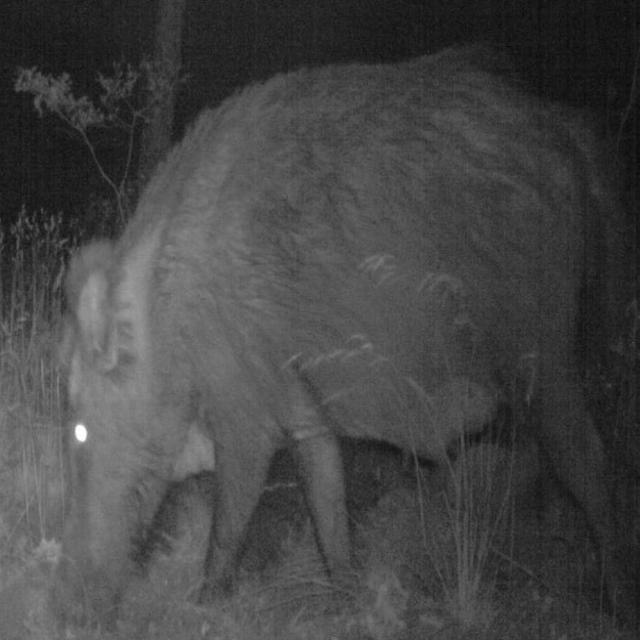pig: (42, 47, 616, 605)
